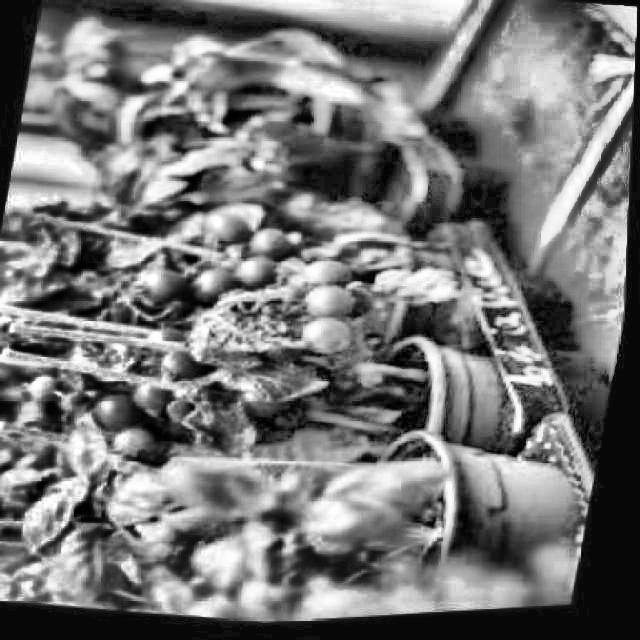plants: (7, 0, 450, 365), (0, 371, 580, 638), (30, 278, 519, 522)
